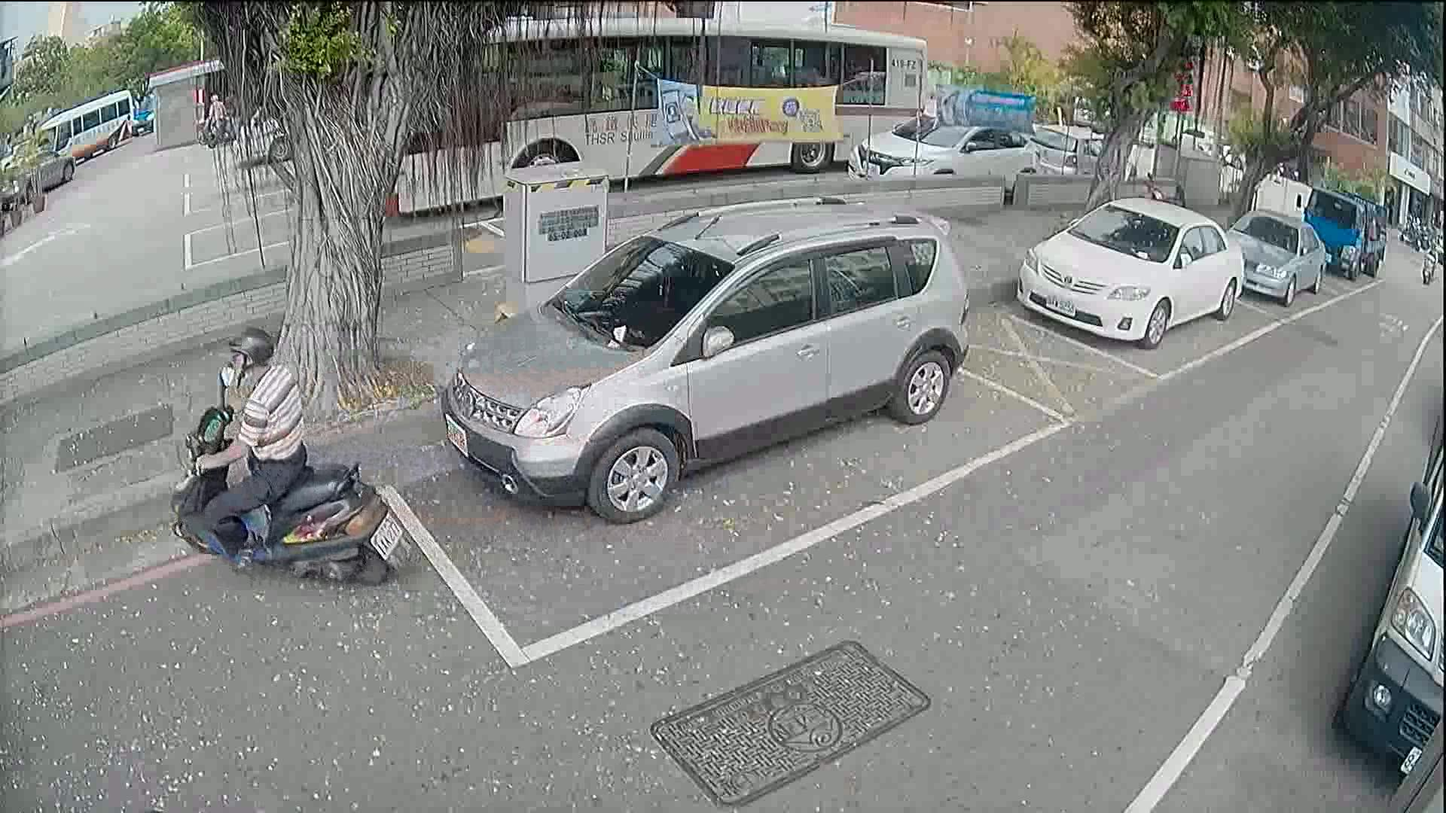person: (186, 321, 310, 574), (205, 90, 227, 144)
